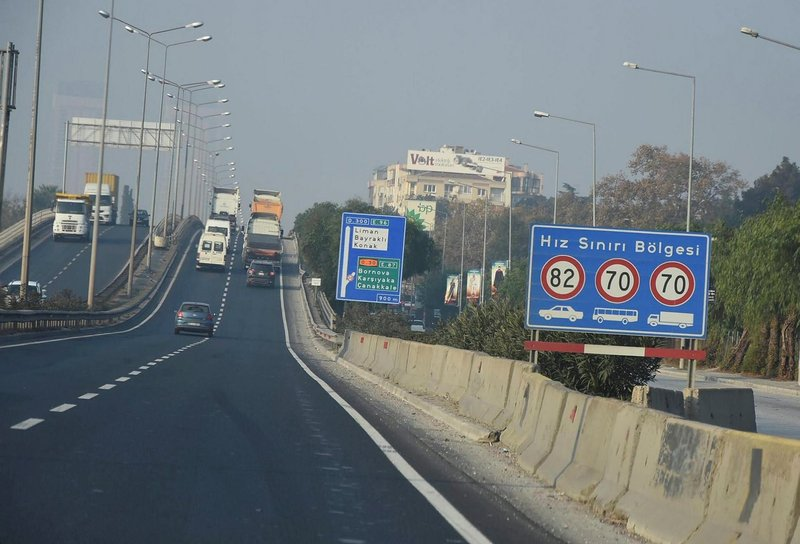70 Km Hiz Siniri: (647, 257, 699, 311), (595, 258, 644, 303)
